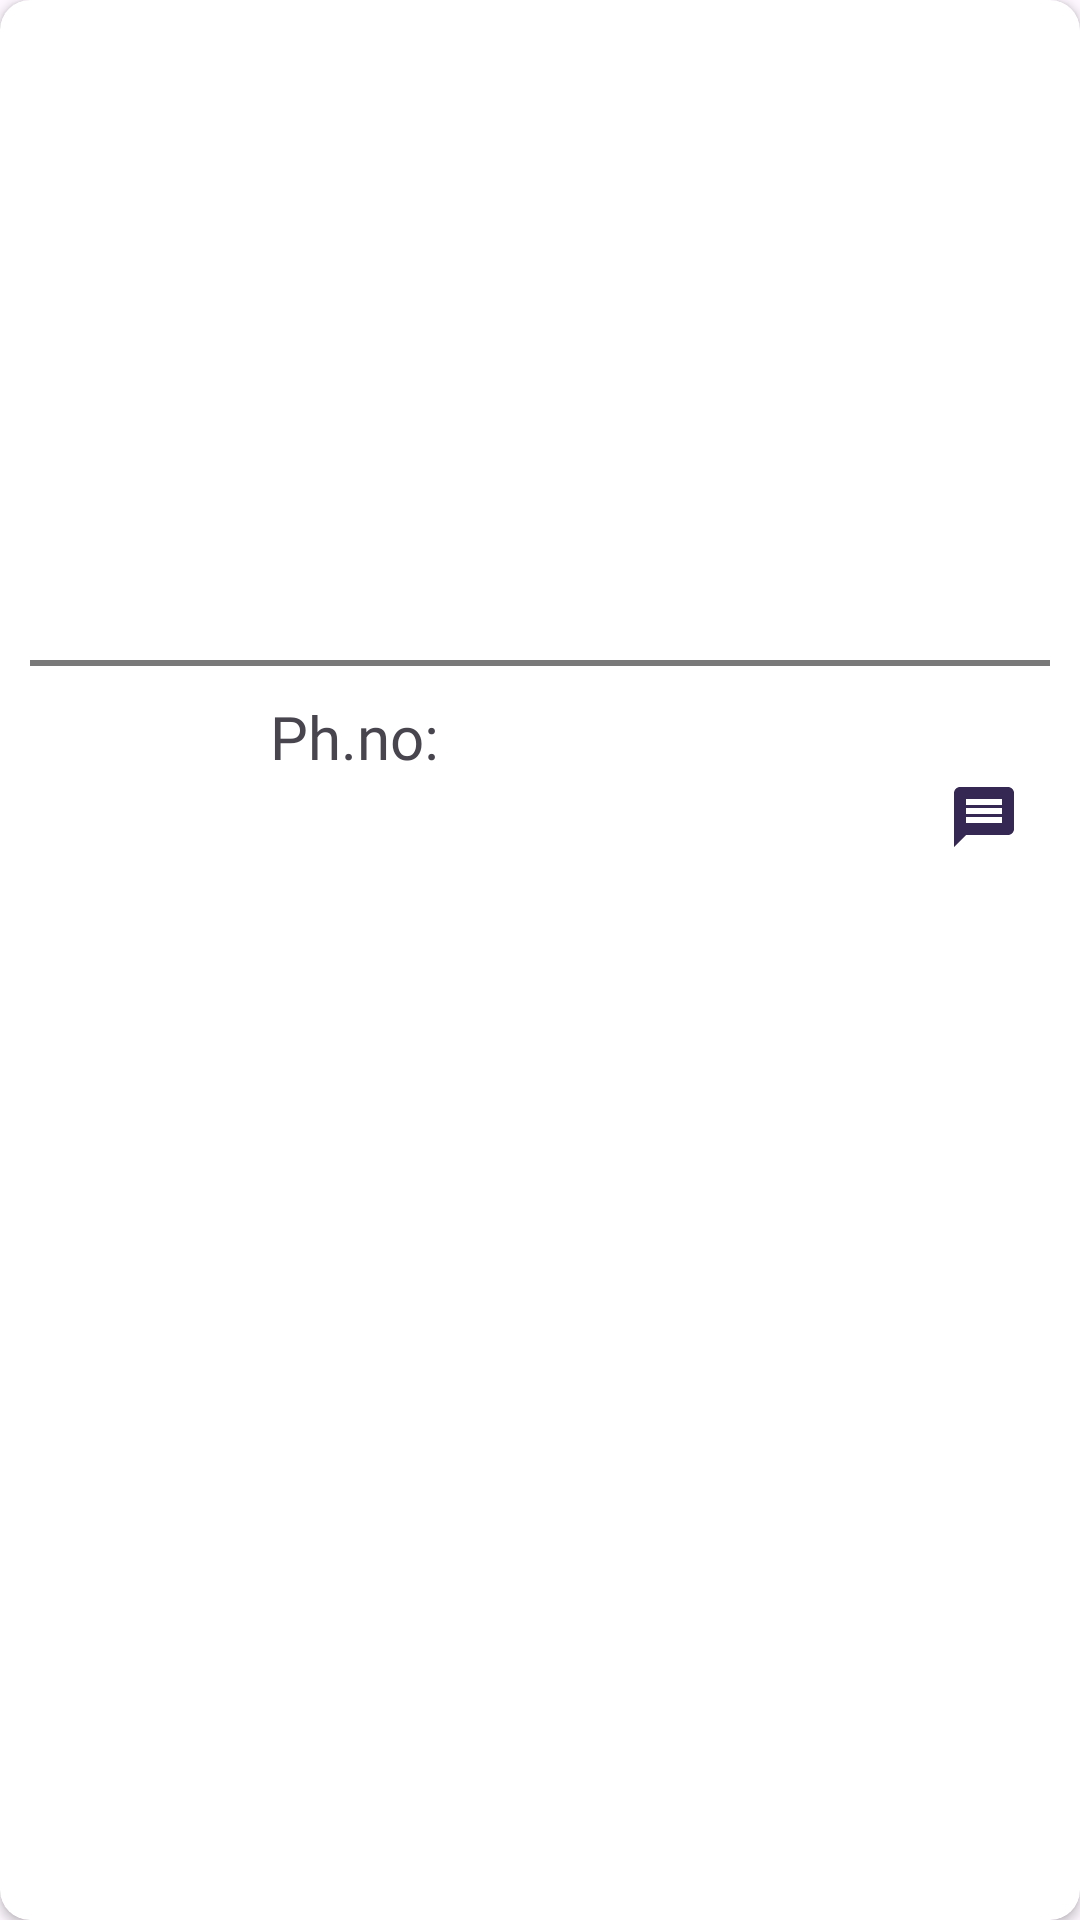

Where to tap for icons on this 1080px×1920px app screen, as (x,y):
message: (984,817)
